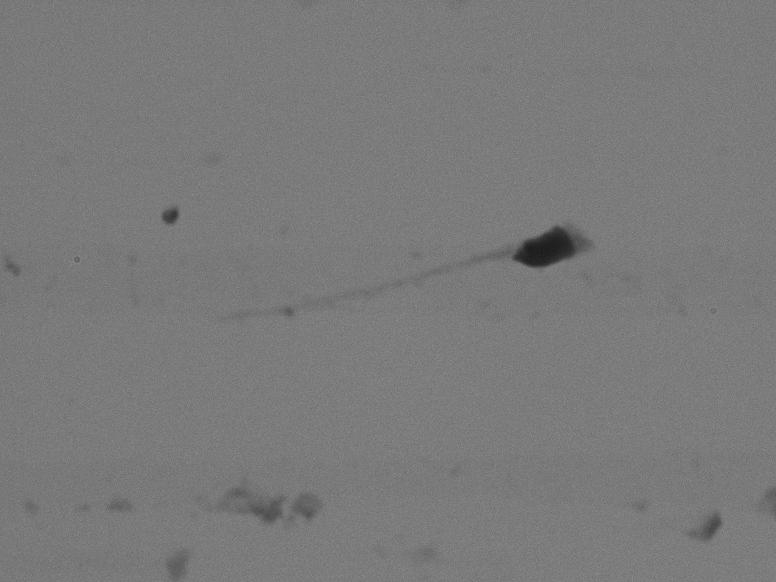Abnormal: (113, 181, 626, 333)
